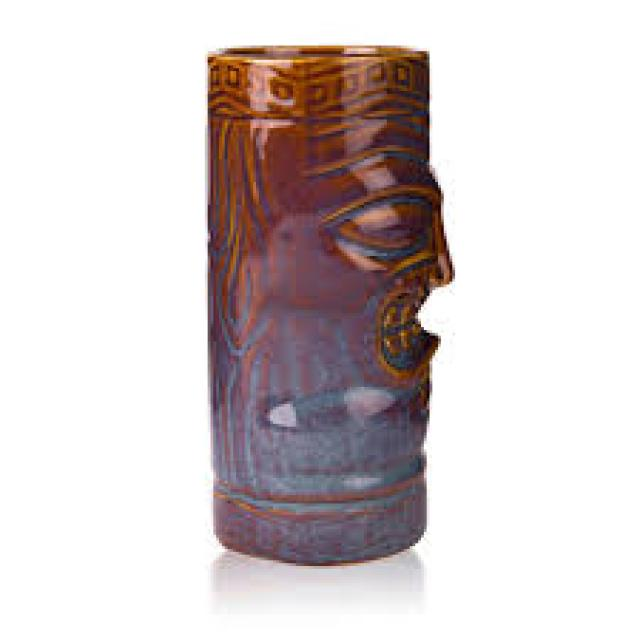glass: (202, 49, 449, 561)
